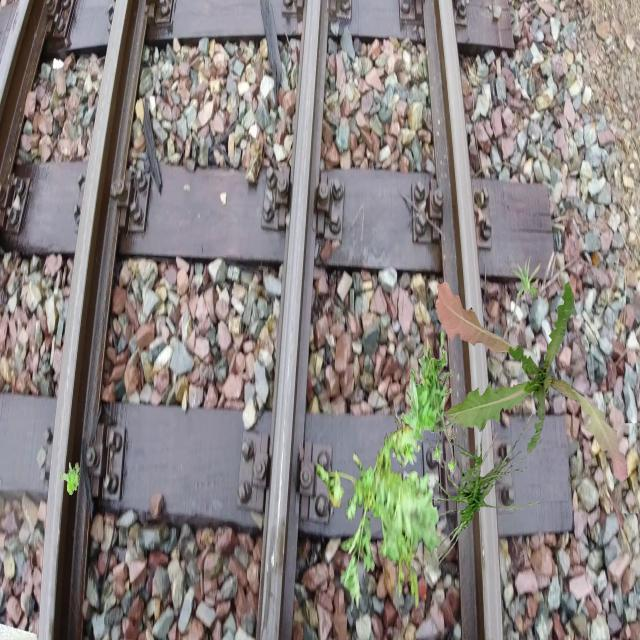Plant: (435, 280, 628, 482), (317, 417, 442, 613), (424, 408, 542, 572), (393, 332, 458, 476), (509, 255, 542, 301), (60, 463, 80, 496)
